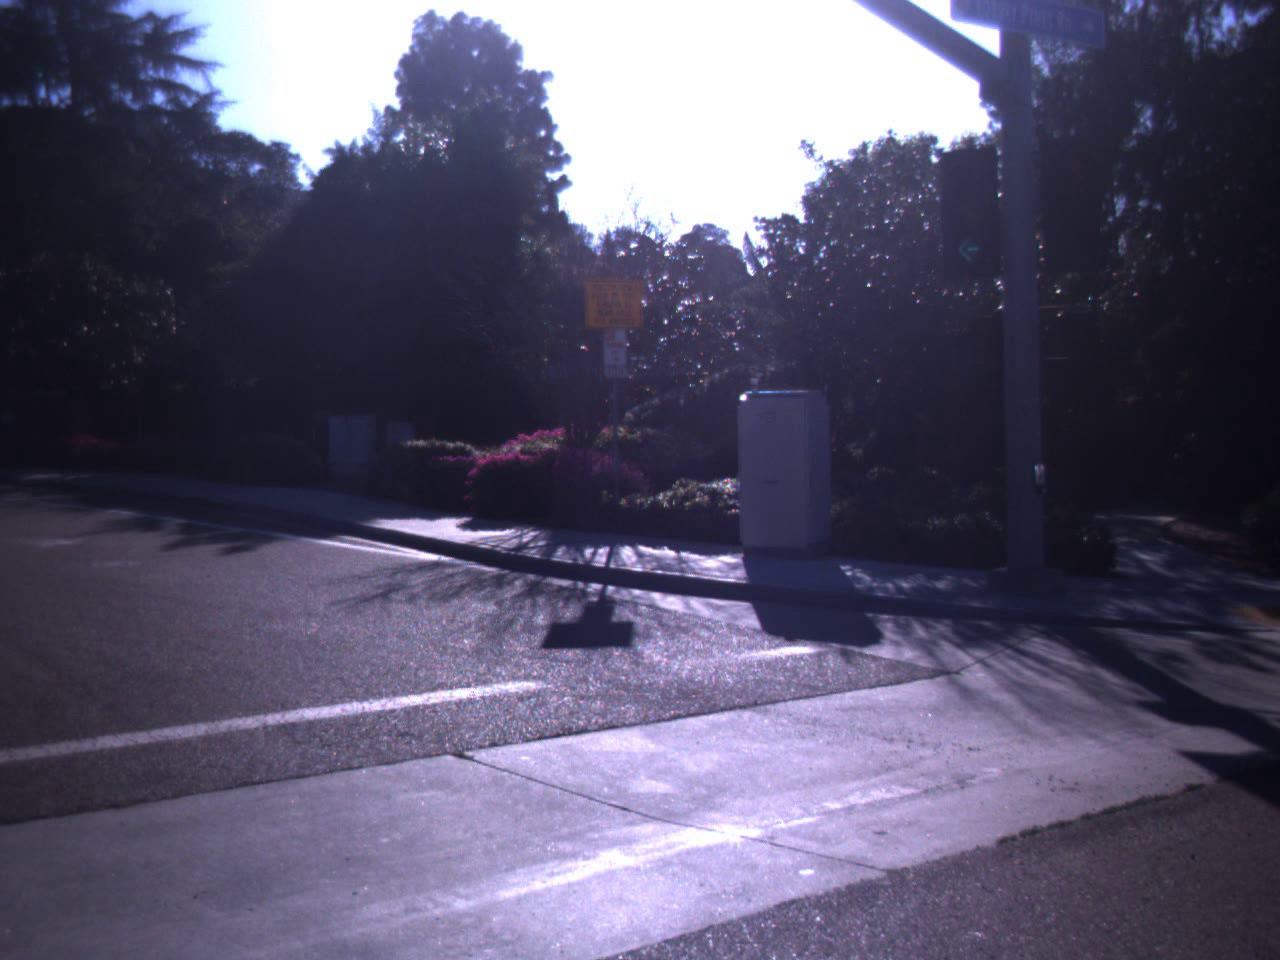go: (924, 138, 1017, 278)
